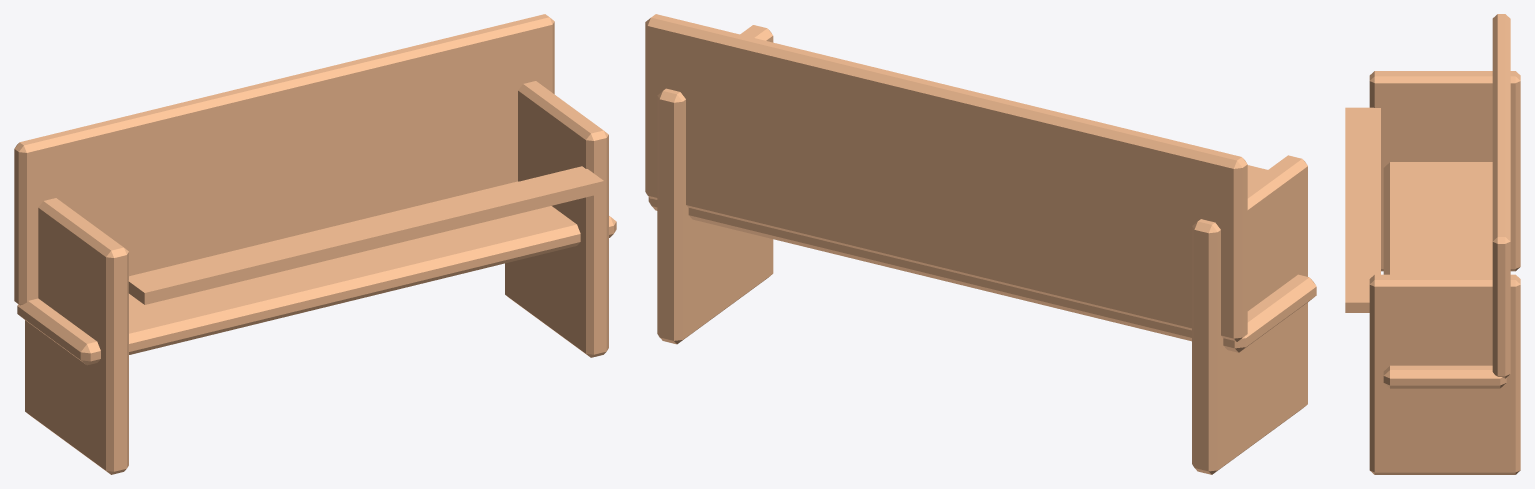
The picture shows the model from 3 angles, left to right: view 1: azimuth 30°, elevation 25°; view 2: azimuth 150°, elevation 25°; view 3: azimuth 270°, elevation 25°; orthographic projection. The views are drawn at different scales.
Visible parts, largest first — view 1: Back, Seat, End panel, End panel.001, Book rest; view 2: Back, End panel, End panel.001, Seat; view 3: End panel.001, Seat, End panel, Book rest, Back.
Part boxes in pixels (x1,y1,x2,y2): Back: (14, 14, 554, 305); Seat: (17, 181, 616, 365); End panel: (25, 198, 128, 474); End panel.001: (505, 81, 608, 357); Book rest: (128, 166, 603, 304); Back: (645, 14, 1247, 341); End panel: (1192, 155, 1307, 474); End panel.001: (657, 25, 773, 344); Seat: (648, 197, 1316, 352); End panel.001: (1369, 274, 1520, 474); Seat: (1383, 162, 1506, 388); End panel: (1369, 71, 1520, 271); Book rest: (1345, 107, 1380, 312); Back: (1492, 14, 1510, 378).
Size of the model in its own units: 210 by 106 by 68.5.
